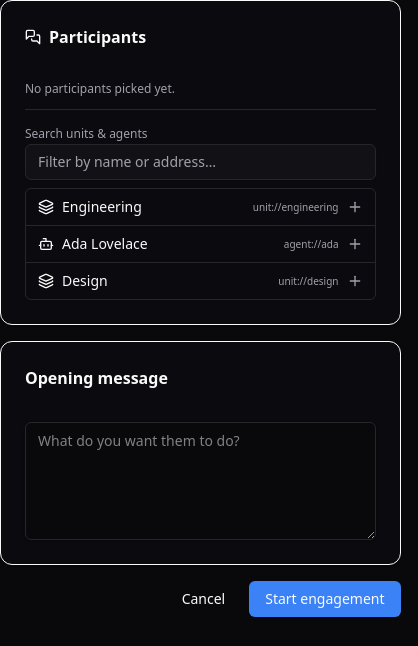
NewEngagementForm — picker › toggles a pick and shows it as a chip
This screenshot has width=418, height=646.
Click the button with test id "engagement-new-pick-unit-engineering".
click(102, 206)  # box x1=26 y1=189 x2=374 y2=225
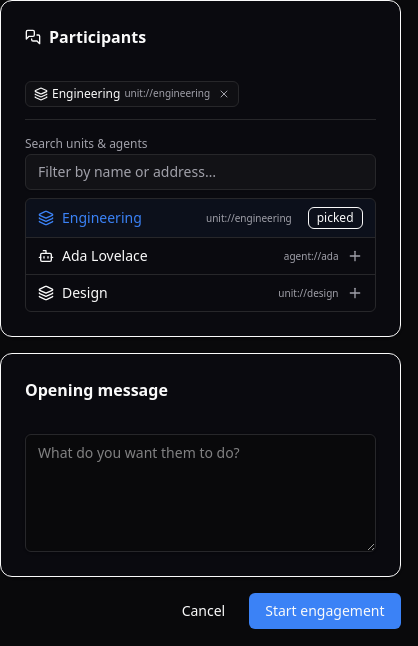
Result: the element with test id "engagement-new-chip-unit-engineering" is shown at x1=25 y1=81 x2=239 y2=107
Note: Click again to remove.
Click the button with test id "engagement-new-pick-unit-engineering".
click(102, 217)  # box x1=26 y1=199 x2=374 y2=237
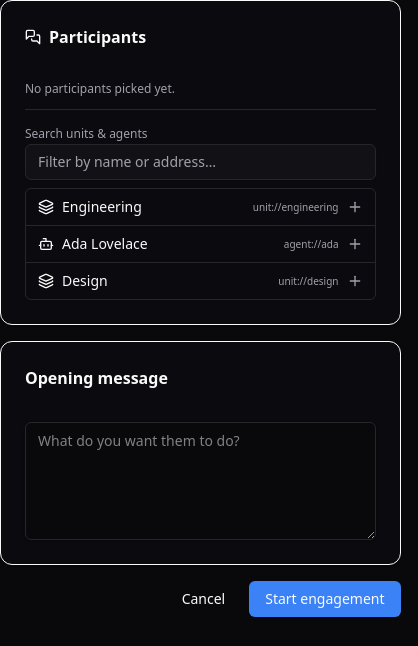
Result: the element with test id "engagement-new-chip-unit-engineering" is gone
